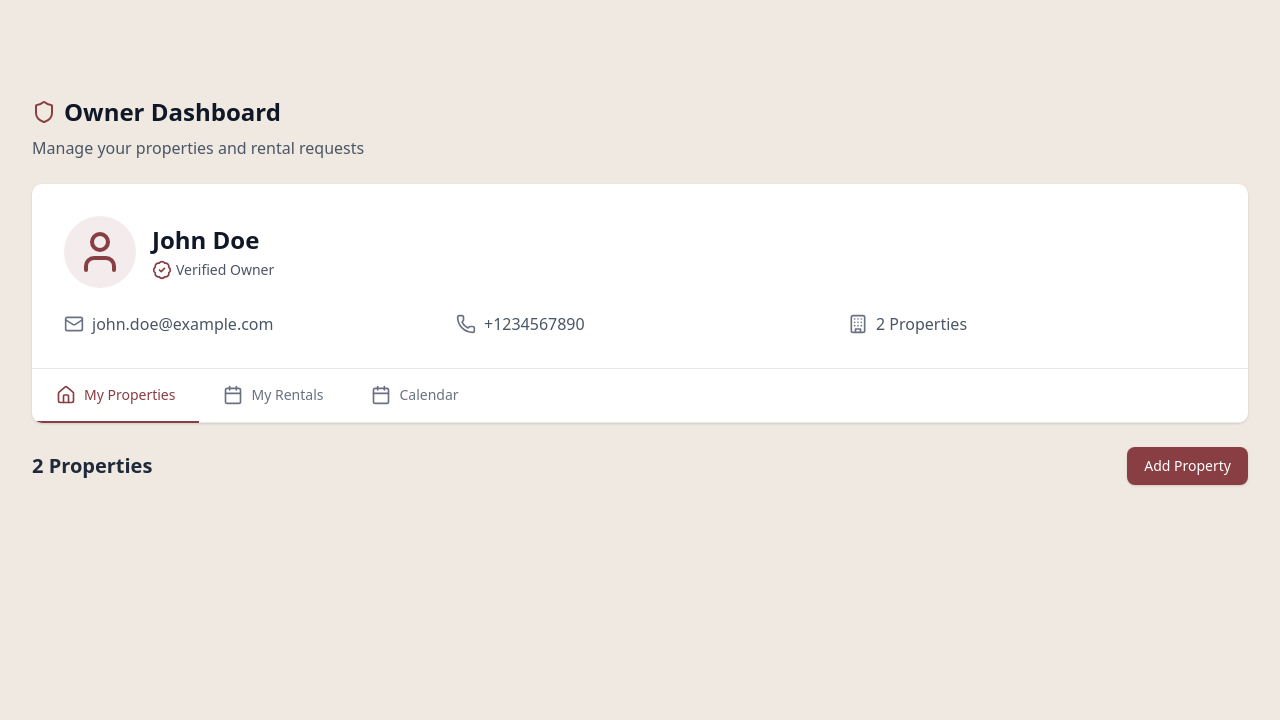
Test case: OwnerProfilePage › Tab Navigation › should switch to rentals tab when clicked
Click the button "My Rentals" at point(274, 396), box [200,369,348,423]
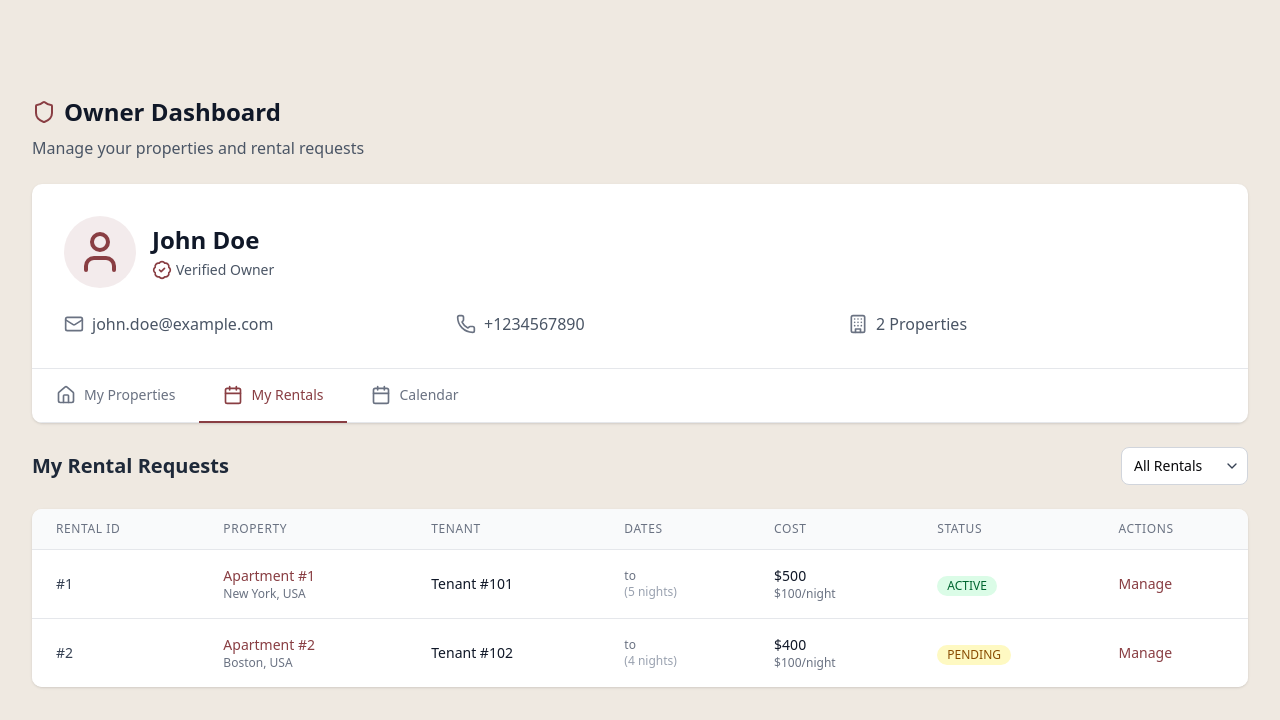
Now the heading "My Rental Requests" is shown, box [32,452,229,480]
